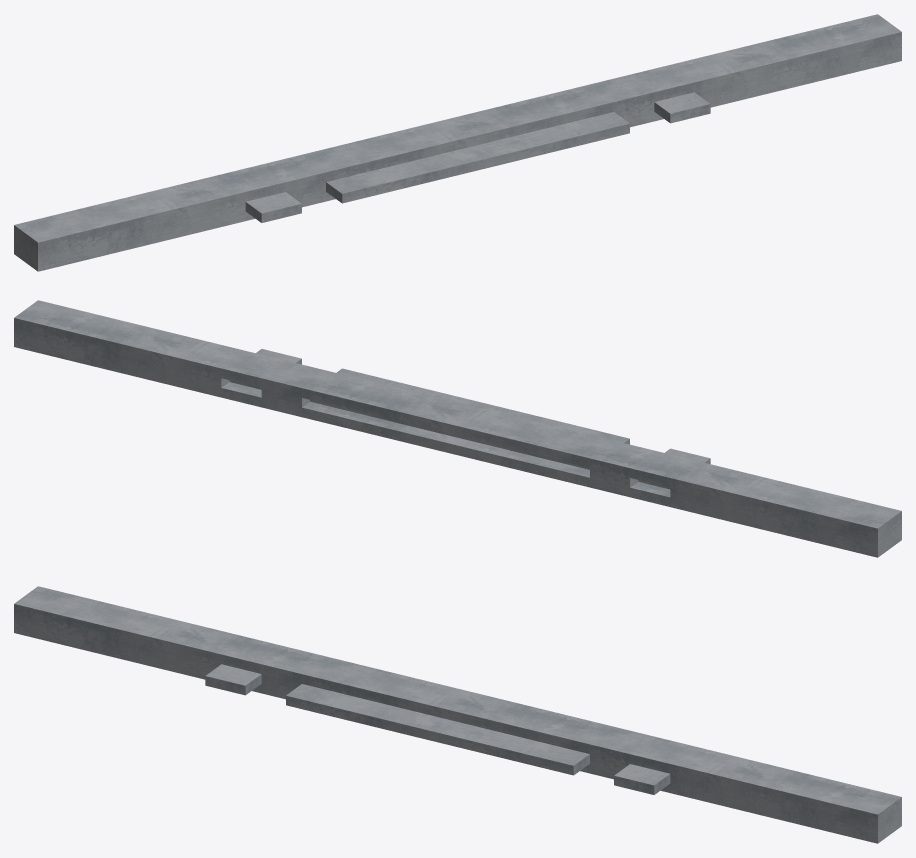
File: Type-0-Tablet-Connector.obj
3 renders of one model, top to bottom at view 1: azimuth 30°, elevation 25°; view 2: azimuth 150°, elevation 25°; view 3: azimuth 330°, elevation 25°, orthographic.
Visible parts, largest first — view 1: Type-0-Tablet-Connector; view 2: Type-0-Tablet-Connector; view 3: Type-0-Tablet-Connector.
Boxes of the visible parts, box(x1,y1,x2,y2) form: Type-0-Tablet-Connector: box(14, 14, 901, 271); Type-0-Tablet-Connector: box(14, 300, 901, 557); Type-0-Tablet-Connector: box(14, 586, 901, 843).
Bounding box in the file's own units: 3.1 × 0.1 × 0.25.
